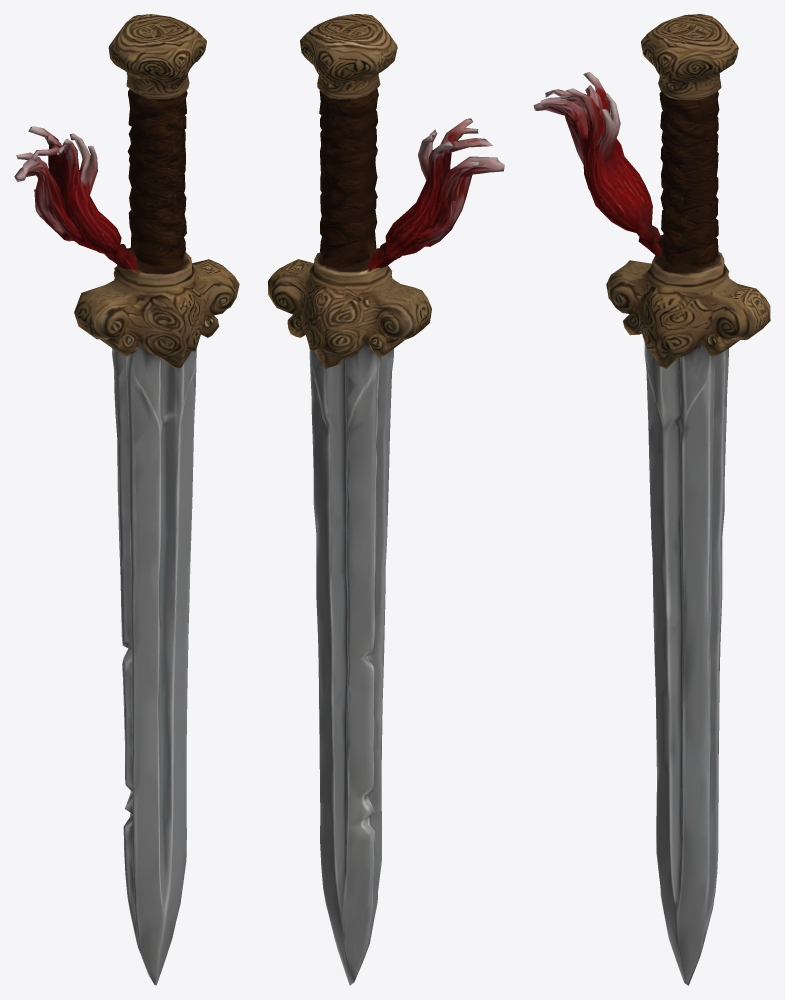
Rendered from sword.glb.
3 views of the same model, side by side, from view 1: azimuth 30°, elevation 25°; view 2: azimuth 150°, elevation 25°; view 3: azimuth 330°, elevation 25° (orthographic).
Parts seen in each view (by area): view 1: Sword; view 2: Sword; view 3: Sword.
Boxes of the visible parts, x1,y1,x2,y2 form: Sword: [14, 14, 239, 985]; Sword: [268, 14, 504, 985]; Sword: [533, 14, 770, 985].
Size of the model in its own units: 0.2635 by 1.08 by 0.1277.
Materials: 1 (1 with a texture image).
